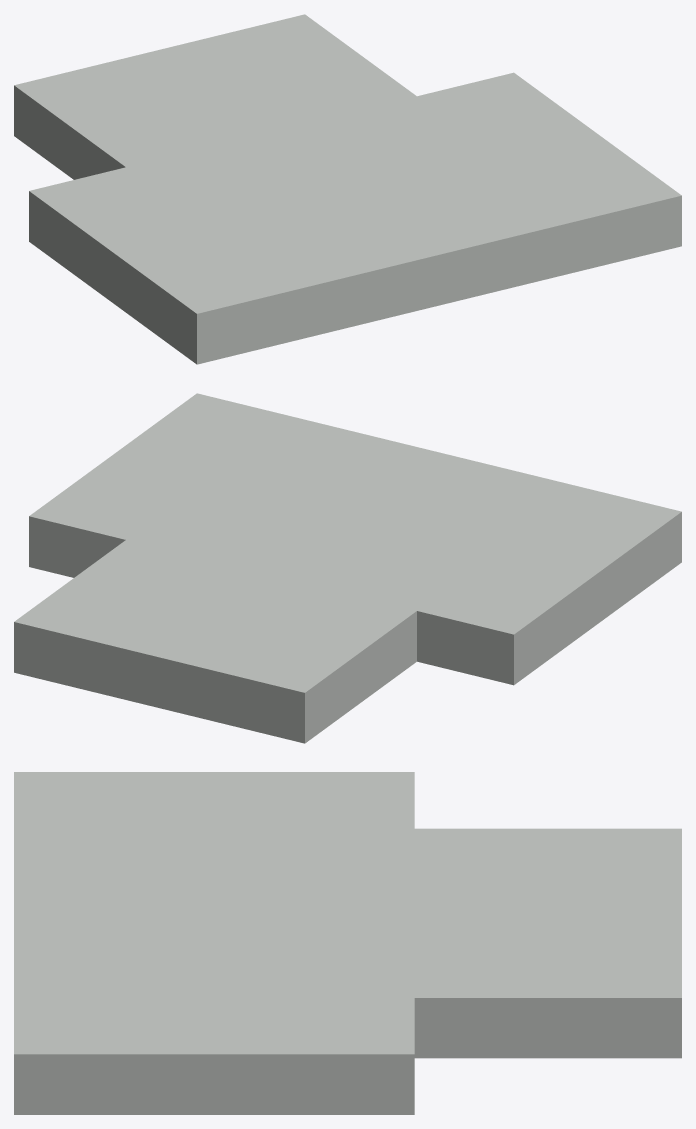
File: Sidewalk01.fbx
3 renders of one model, top to bottom at view 1: azimuth 30°, elevation 25°; view 2: azimuth 150°, elevation 25°; view 3: azimuth 270°, elevation 25°, orthographic. The views are drawn at different scales.
Parts seen in each view (by area): view 1: Sidewalk01; view 2: Sidewalk01; view 3: Sidewalk01.
Part boxes in pixels (box(x1,y1,x2,y2)): Sidewalk01: box(14, 14, 681, 364); Sidewalk01: box(14, 393, 681, 743); Sidewalk01: box(14, 772, 681, 1114).
Size of the model in its own units: 5 by 0.5 by 5.
